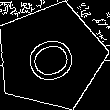O_E: (18, 26, 83, 86)
